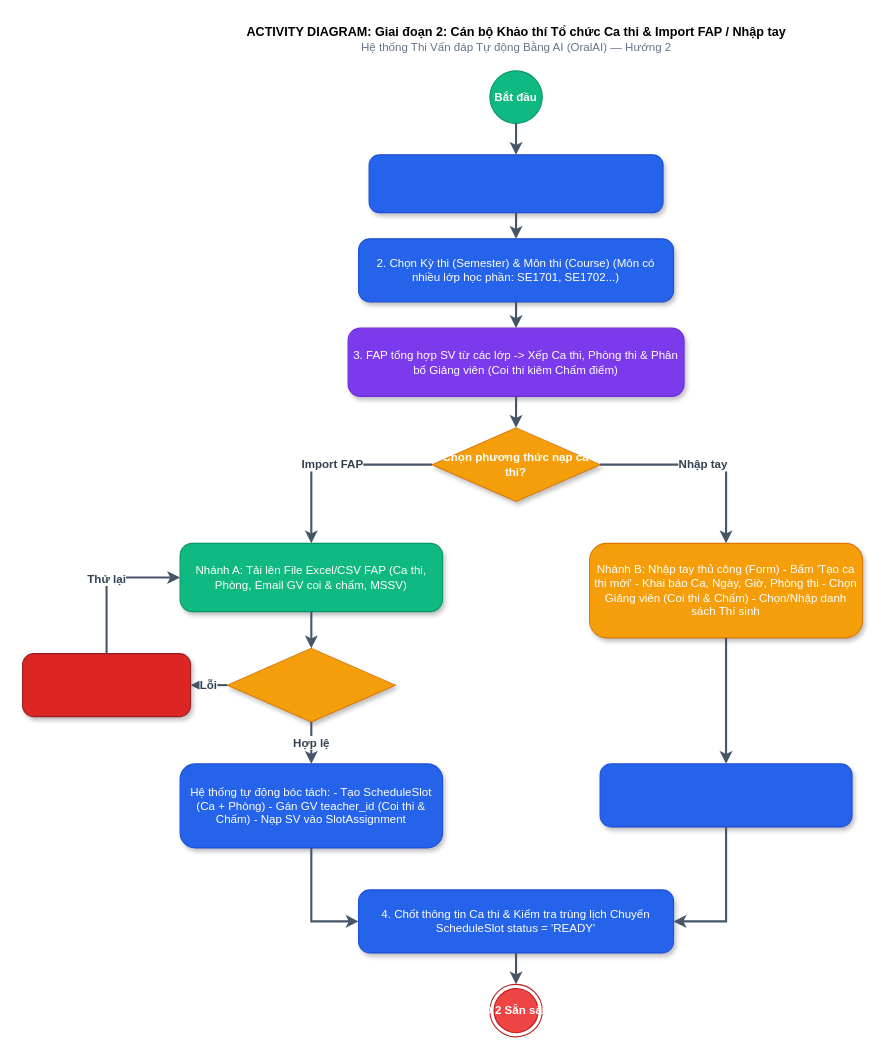
Image size: 887x1055. Some labels were removed from this diagram. Here are the shapes that lost their labels. From the top down, the centre of each, then its label:
At [516,185]: "1. Cán bộ Khảo thí đăng nhập Staff Portal (/schedule)".
At [107,686]: "Báo lỗi dòng sai format Yêu cầu tải lại file chuẩn".
At [312,686]: "Kiểm tra định dạng File Excel FAP?".
At [726,796]: "Lưu Ca thi & Danh sách SV (Tạo ScheduleSlot & SlotAssignment)".
